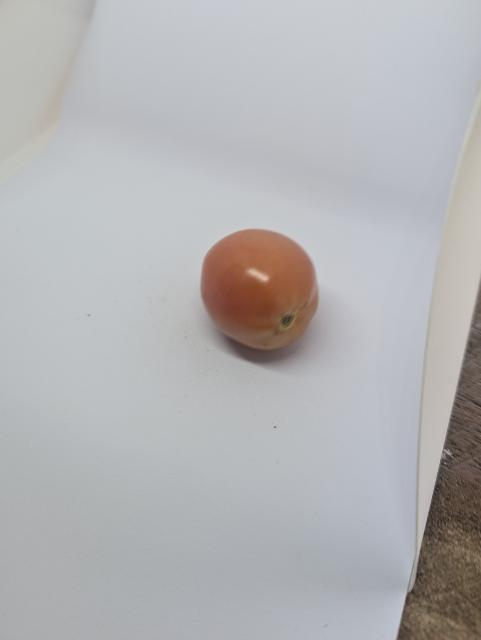turning: (193, 224, 324, 352)
